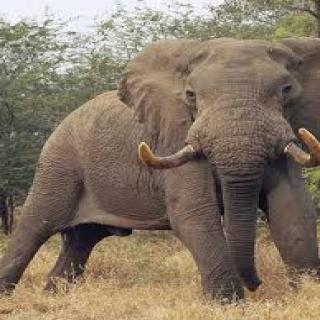Elephant: (3, 31, 320, 305)
